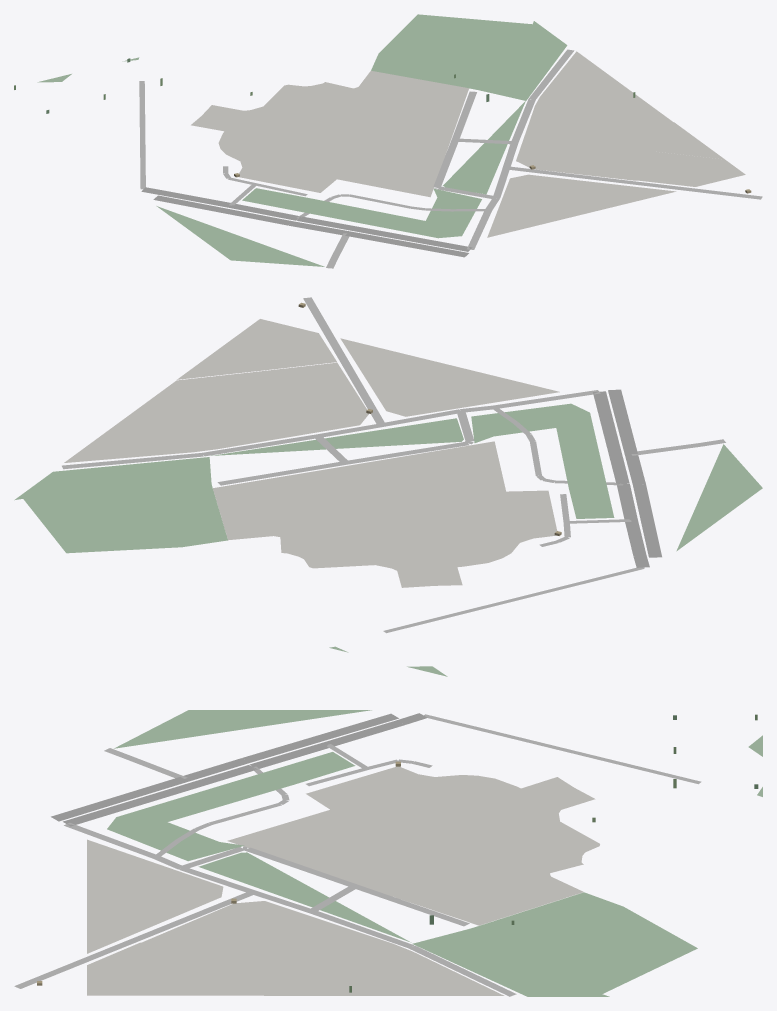
The picture shows the model from 3 angles, top to bottom: view 1: azimuth 30°, elevation 25°; view 2: azimuth 150°, elevation 25°; view 3: azimuth 270°, elevation 25°; orthographic projection. The views are drawn at different scales.
Size of the model in its own units: 500 by 9.03 by 554.
